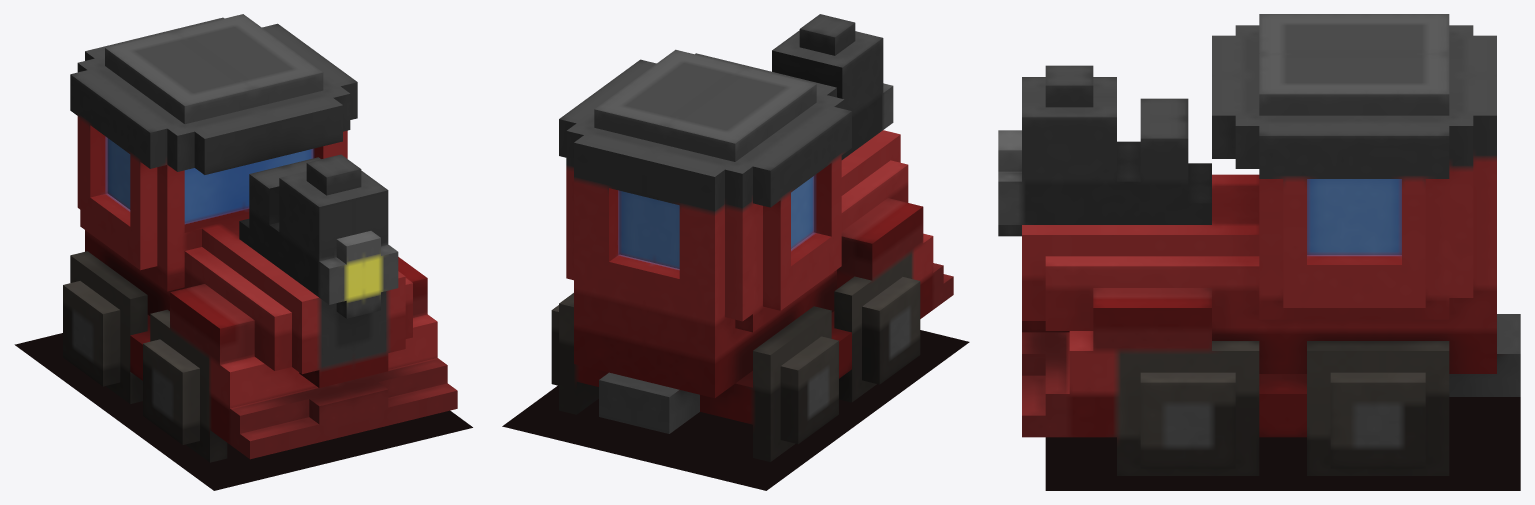
The model's file is train_head.FBX.
3 renders of one model, left to right at view 1: azimuth 30°, elevation 25°; view 2: azimuth 150°, elevation 25°; view 3: azimuth 270°, elevation 25°, orthographic. The views are drawn at different scales.
Parts seen in each view (by area): view 1: train_head, train_head_soft_shadow; view 2: train_head, train_head_soft_shadow; view 3: train_head, train_head_soft_shadow.
Part boxes in pixels (left/top/right/bottom): train_head: left=63, top=14, right=457, bottom=462; train_head_soft_shadow: left=14, top=333, right=472, bottom=490; train_head: left=551, top=14, right=953, bottom=461; train_head_soft_shadow: left=502, top=330, right=969, bottom=490; train_head: left=998, top=14, right=1520, bottom=475; train_head_soft_shadow: left=1045, top=397, right=1520, bottom=490.
Size of the model in its own units: 750 by 850 by 1100.
